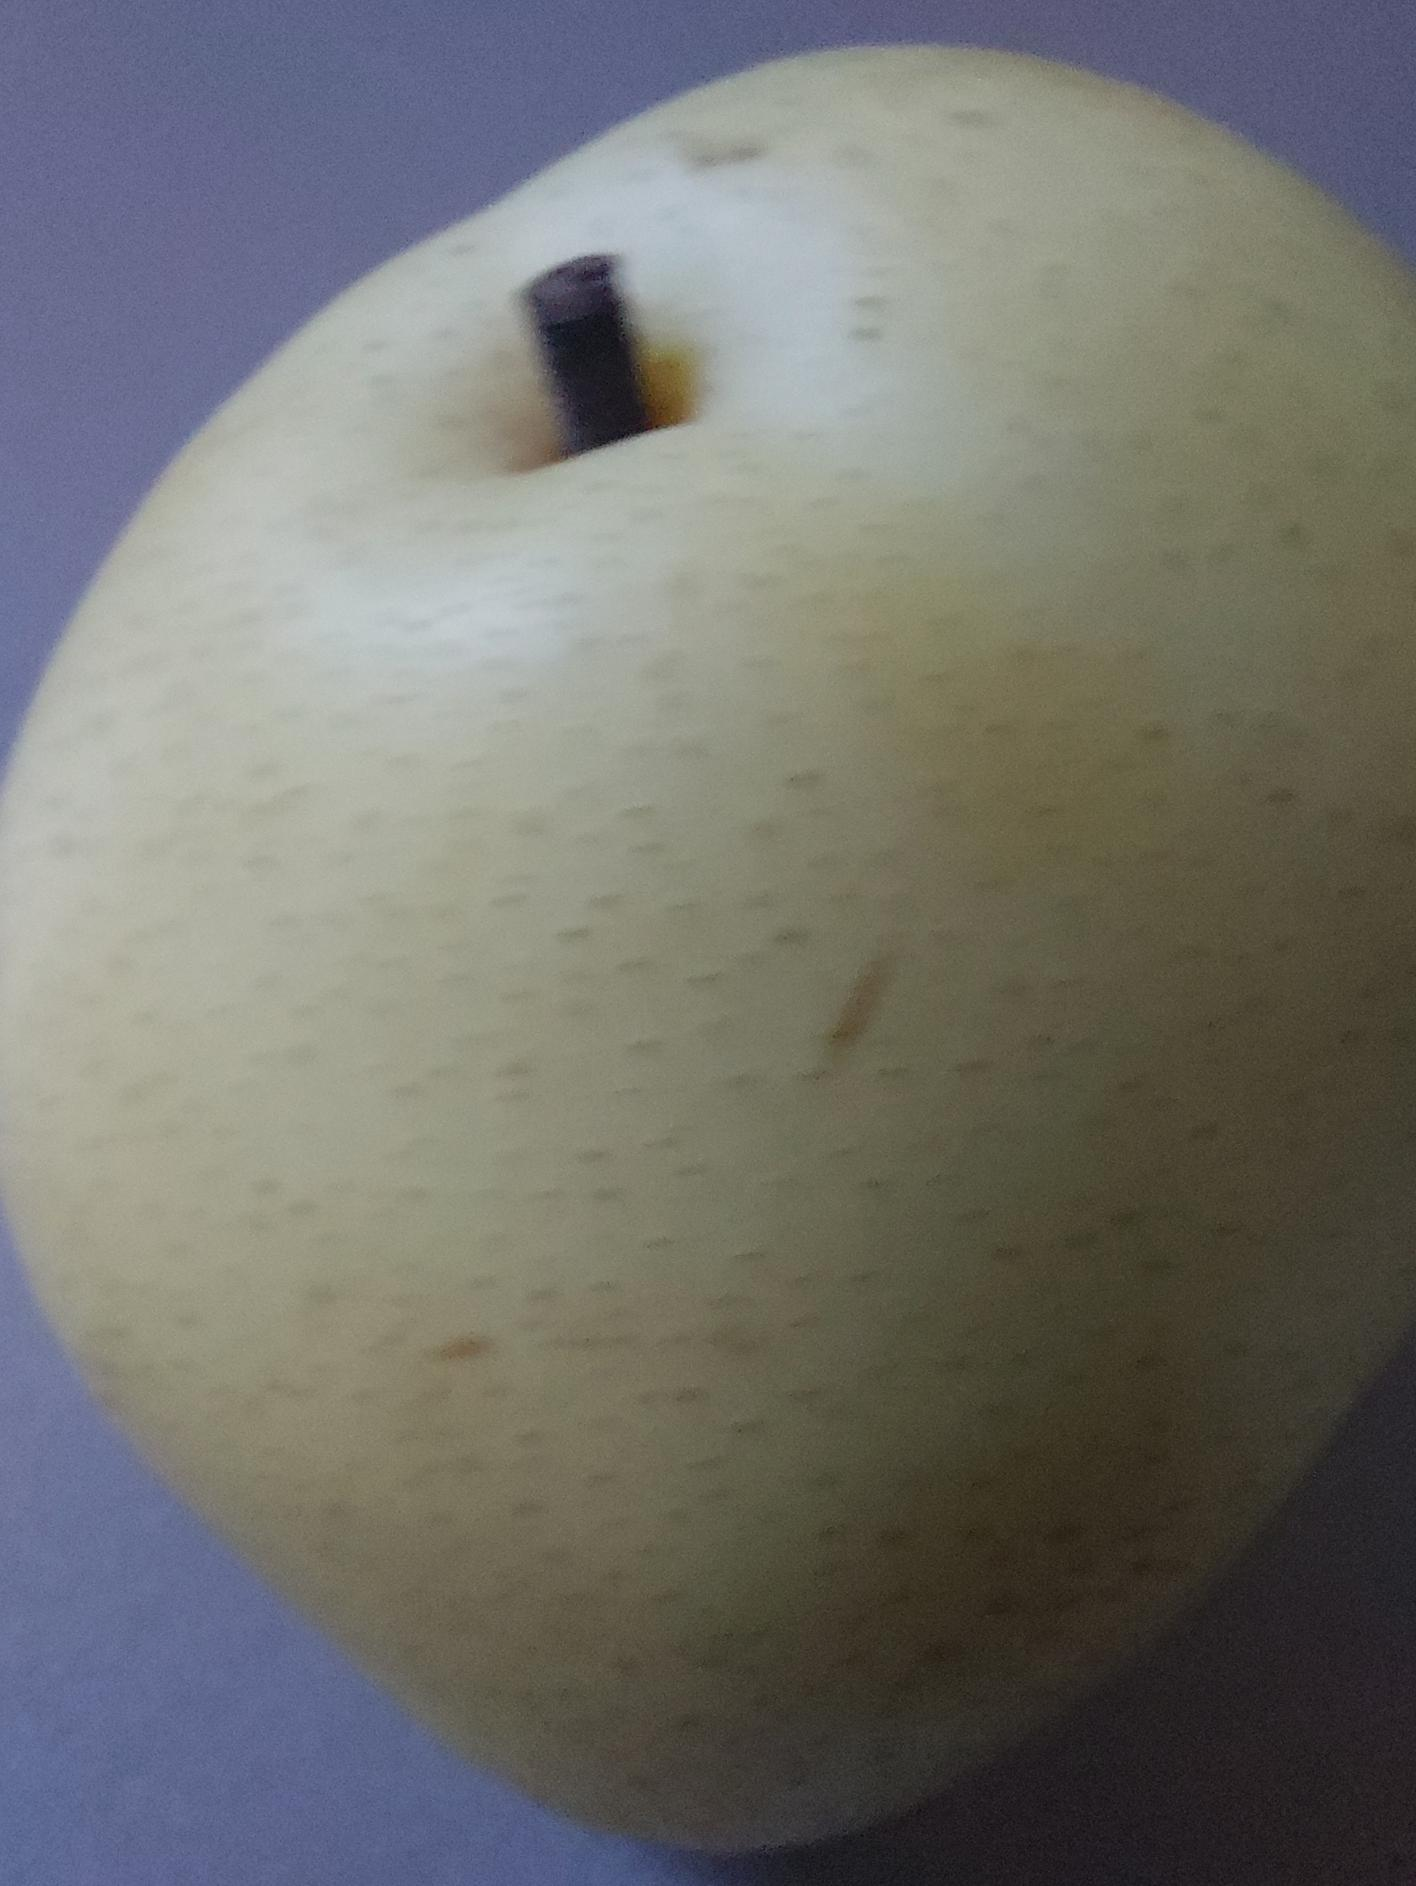Good Pear: (0, 54, 1416, 1853)
